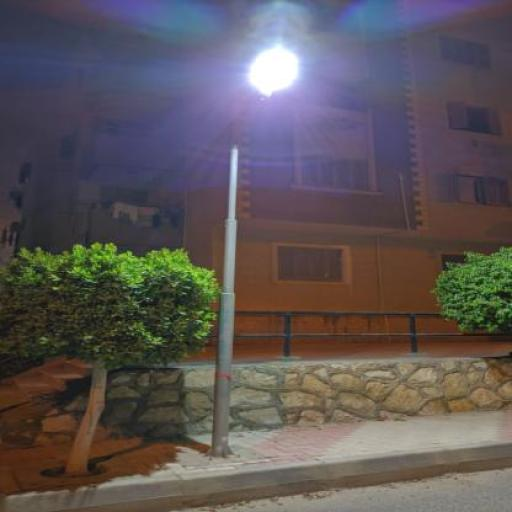street light: (206, 44, 302, 454)
